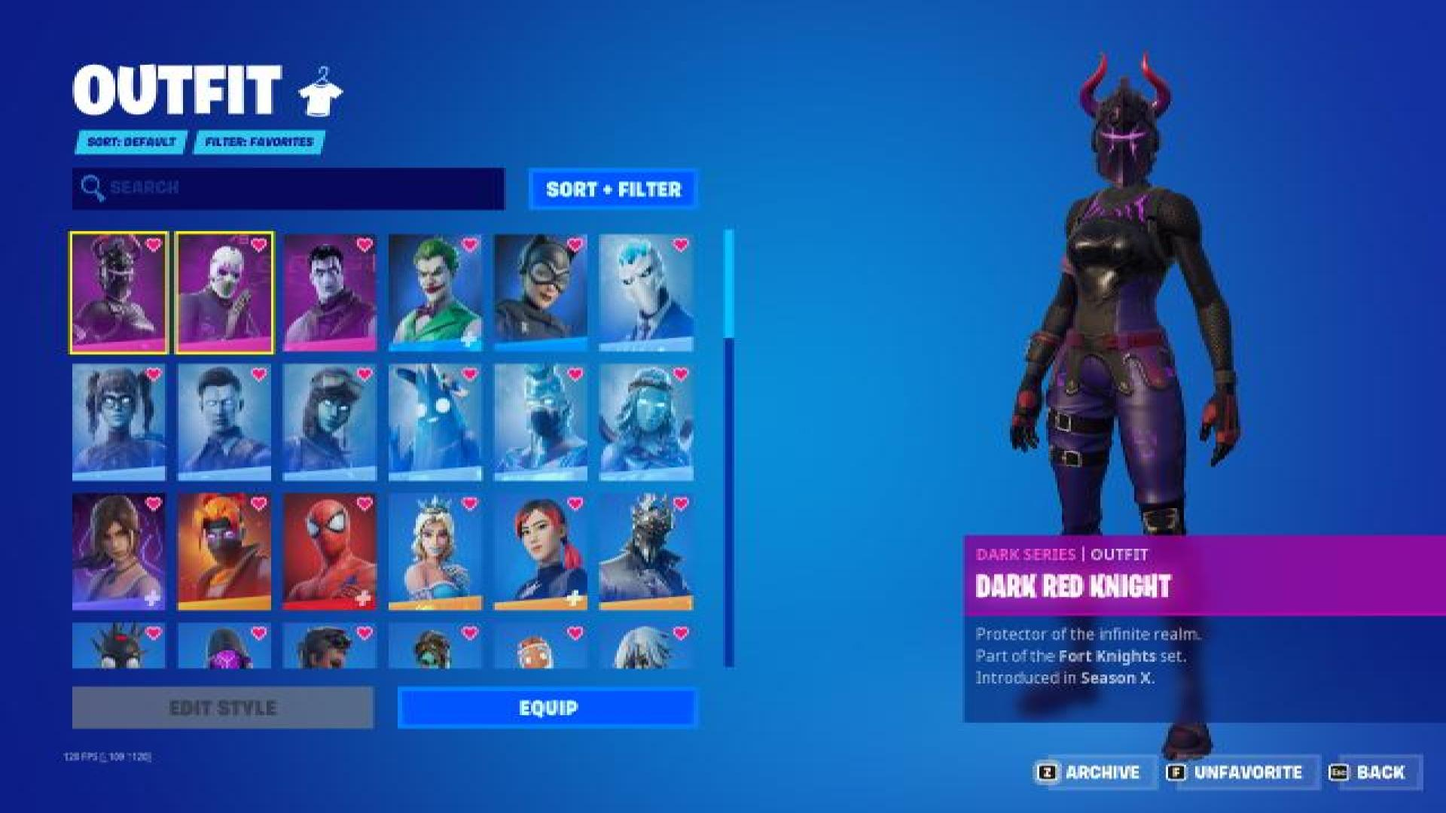player: (940, 46, 1313, 771)
